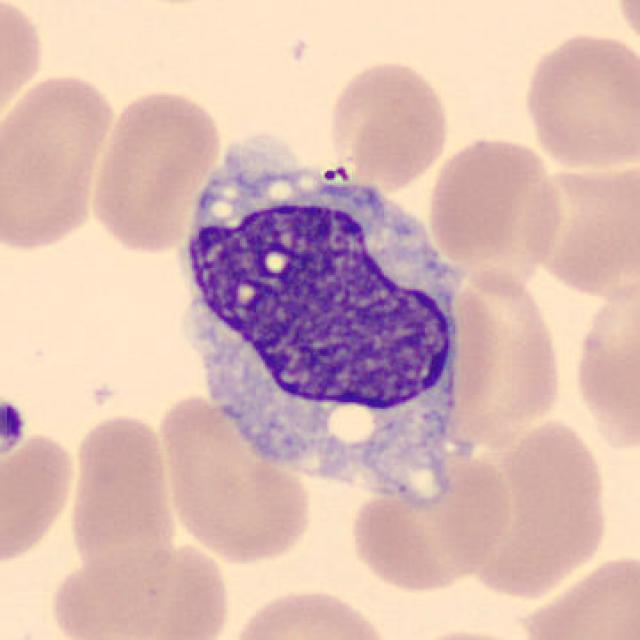Monocyte: (162, 146, 489, 504)
Platelets: (0, 395, 28, 460)
RBC: (455, 411, 613, 599), (154, 388, 316, 566), (343, 432, 516, 598), (439, 264, 567, 455), (85, 85, 226, 258), (0, 68, 121, 255), (423, 132, 565, 284), (64, 409, 180, 578), (44, 539, 232, 640), (324, 54, 454, 190), (519, 26, 638, 173), (527, 162, 640, 307), (567, 268, 640, 458), (515, 548, 640, 639), (0, 427, 80, 568), (224, 583, 398, 640), (0, 0, 50, 141), (610, 0, 640, 56)
